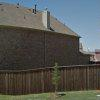Chimney: (36, 3, 60, 29)
